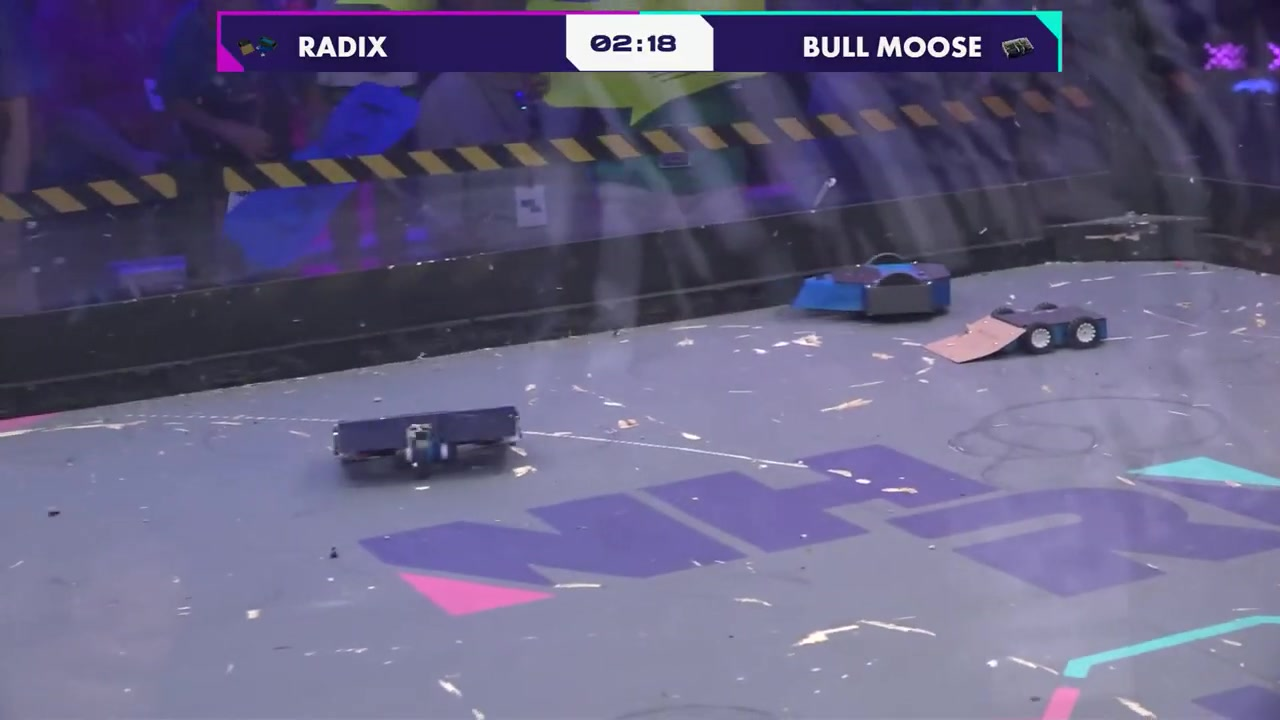combatbot: (332, 401, 526, 485), (777, 254, 955, 323)
minibot: (924, 298, 1110, 368)
